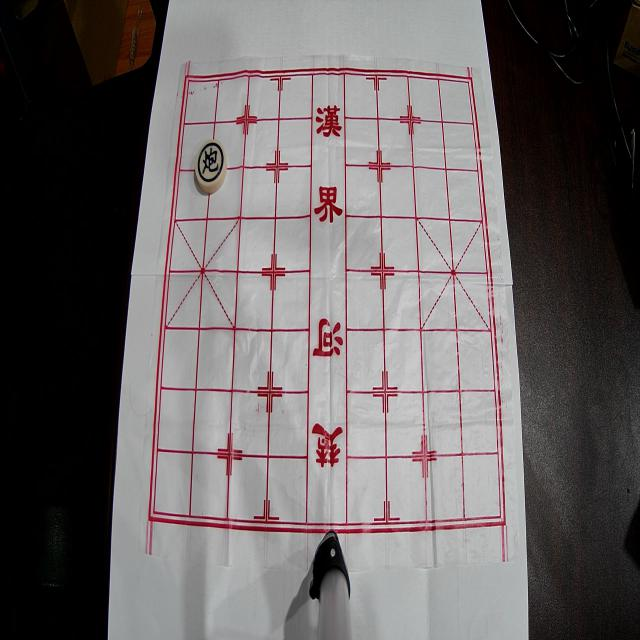black-cannon: (195, 140, 227, 193)
